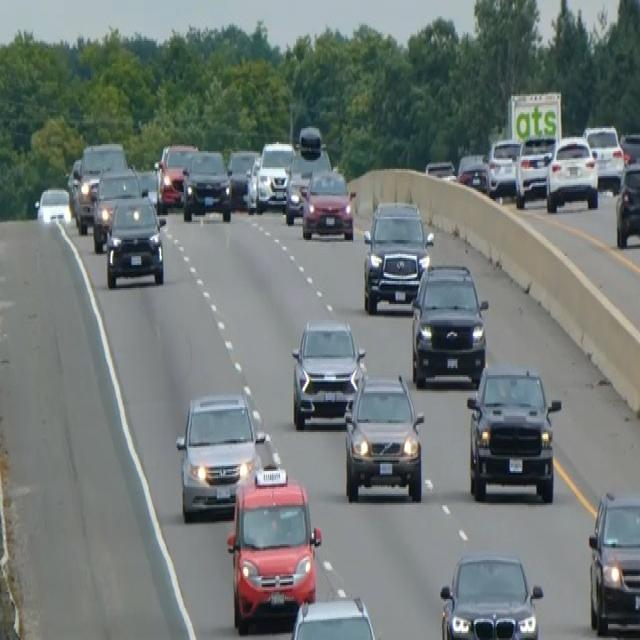car: (226, 464, 322, 633), (175, 389, 280, 519), (343, 370, 425, 503), (410, 262, 489, 388), (439, 550, 543, 638), (290, 316, 366, 428), (362, 197, 433, 315), (587, 487, 639, 635), (104, 192, 166, 288), (73, 140, 127, 233), (90, 165, 143, 252), (545, 134, 599, 212), (287, 594, 381, 638), (301, 167, 355, 240), (181, 148, 232, 222), (514, 132, 556, 206), (255, 138, 295, 212), (156, 142, 197, 208), (582, 122, 624, 186), (614, 158, 639, 249), (487, 135, 521, 197), (226, 146, 258, 208), (34, 185, 71, 226), (456, 151, 490, 194), (136, 166, 162, 212), (65, 157, 82, 215), (245, 153, 261, 211), (424, 158, 455, 180), (619, 130, 639, 164)
jeep: (465, 363, 562, 503)
